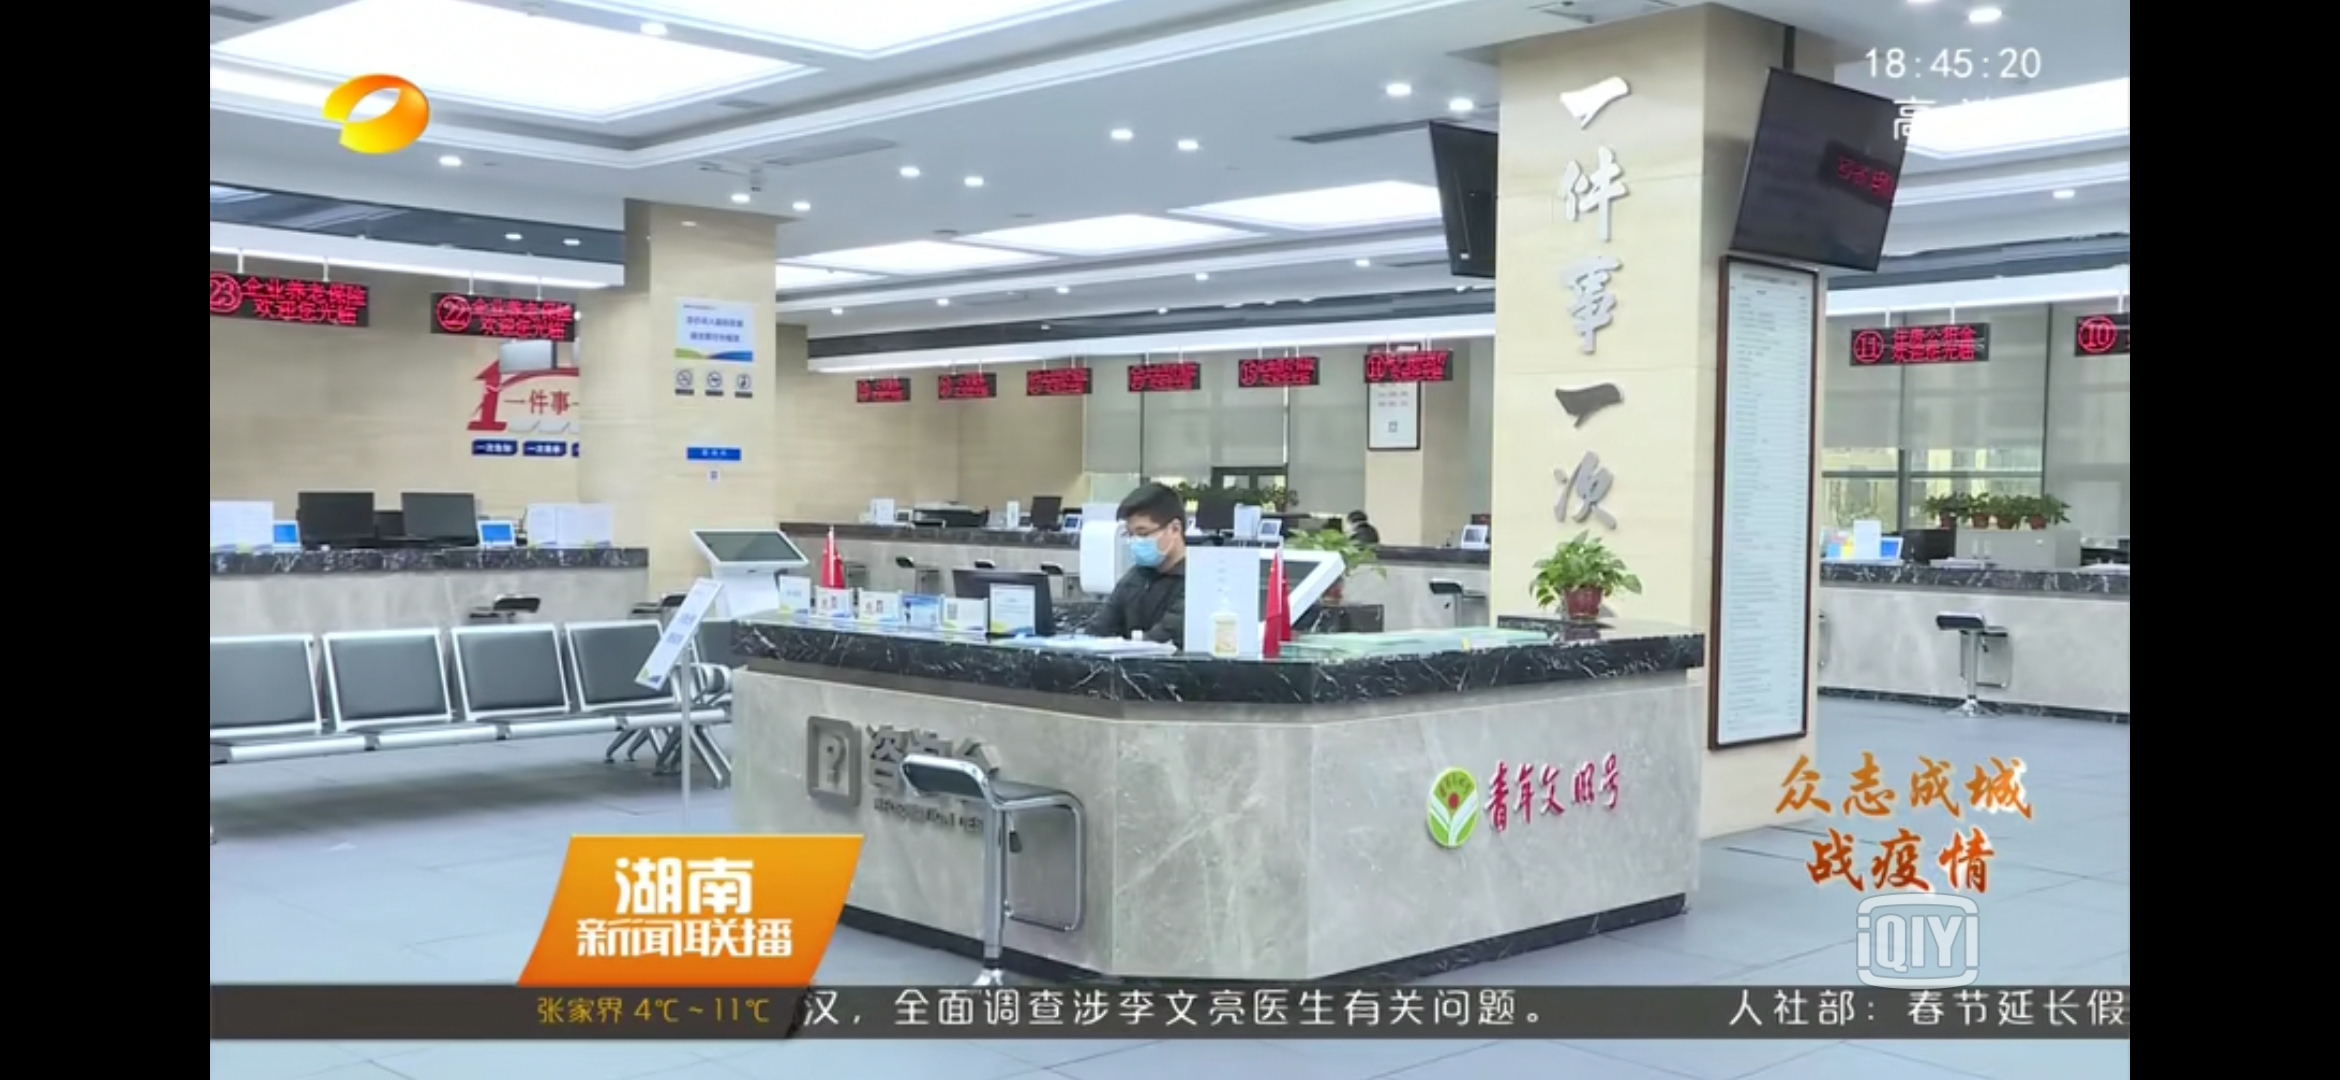correctlyWear: (1119, 512, 1180, 568)
